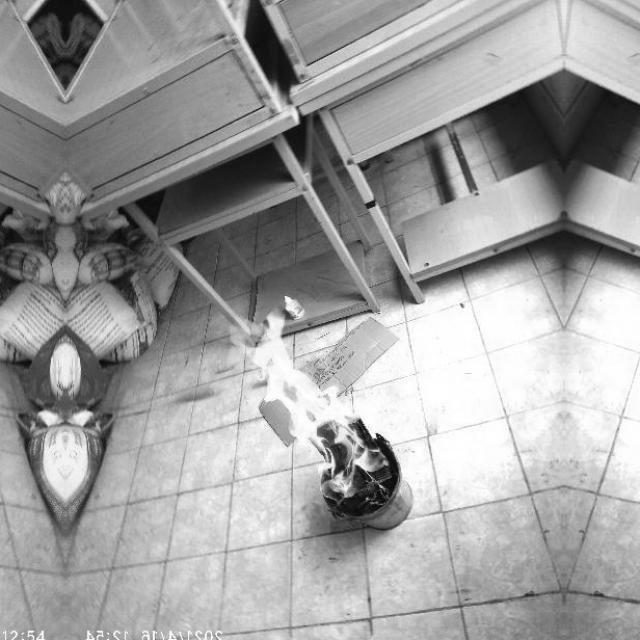smoke: (228, 308, 390, 506)
